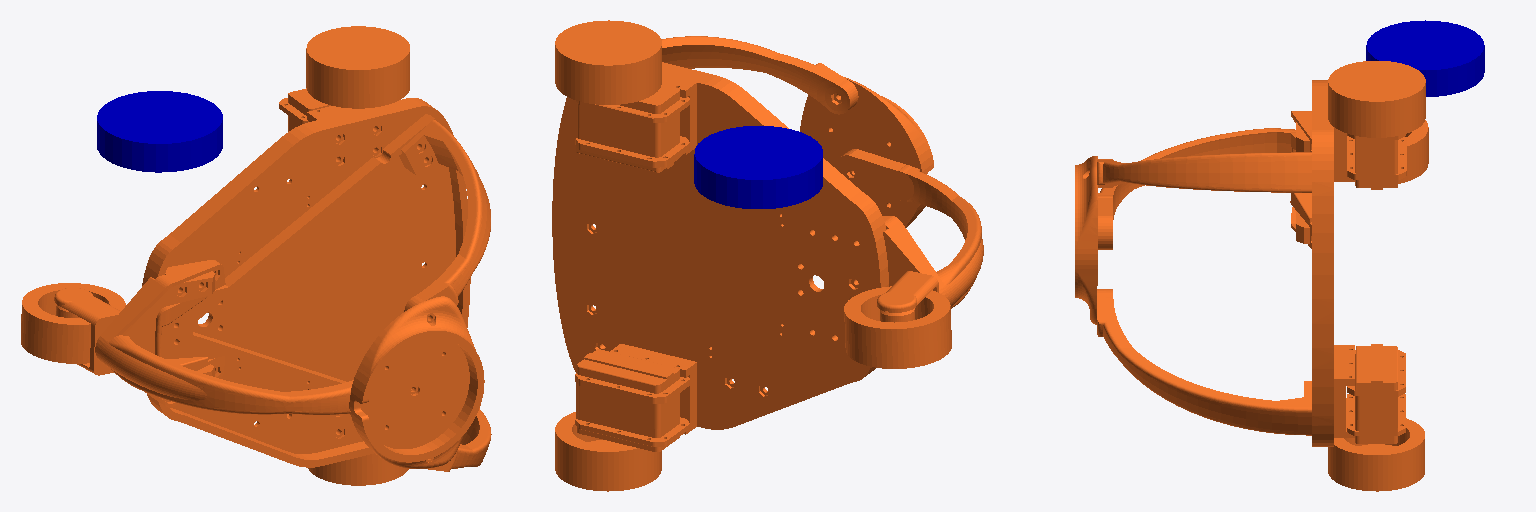
The robot description file, URDF, robot "cartographer_backpack_2d":
<?xml version="1.0"?>

<robot name="cartographer_backpack_2d">
  <material name="orange">
    <color rgba="1.0 0.5 0.2 1" />
  </material>
  <material name="gray">
    <color rgba="0.2 0.2 0.2 1" />
  </material>
<material name="blue">
 <color rgba="0 0 0.8 1"/>
</material>

  <link name="laser">
    <visual>
      <origin xyz="0 0 0" />
      <geometry>
        <cylinder length="0.02" radius="0.04" />
      </geometry>
      <material name="blue" />
    </visual>
  </link>


<!--<link name="odom">
    <visual>
      <origin xyz="0 0 0" />
      <geometry>
        <cylinder length="0.02" radius="0.04" />
      </geometry>
      <material name="blue" />
    </visual>
  </link>-->

 <!-- <link name="left_wheel">
    <visual>
      <origin rpy="1.57 0 0" xyz="0 0 0" />
      <geometry>
        <cylinder length="0.027" radius="0.033" />
      </geometry>
      <material name="gray" />
    </visual>
  </link>

  <link name="right_wheel">
    <visual>
      <origin rpy="1.57 0 0" xyz="0 0 0" />
      <geometry>
        <cylinder length="0.027" radius="0.033" />
      </geometry>
      <material name="gray" />
    </visual>
  </link>

  <link name="rear_wheel">
    <visual>
      <origin rpy="1.57 0 0" xyz="0 0 0" />
      <geometry>
        <cylinder length="0.027" radius="0.033" />
      </geometry>
      <material name="gray" />
    </visual>
  </link>

<link name="hub_link">
     <visual>
      <origin rpy="0 0 1.57" xyz="0 0 0"/>
     <geometry>
         <mesh filename="package://urdf_tutorial/meshes/robot_p1_hub.stl"/>
     </geometry>
	<material name="orange" />
     </visual>
</link>-->

<link name="base_link">
     <visual>
      <origin rpy="1.57 0 0" xyz="0 0 0"/>
     <geometry>
         <mesh filename="package://urdf_tutorial/meshes/robot_p1.stl"/>
	</geometry>
	<material name="orange" />
     </visual>
</link>
<!--
  <joint name="left_wheel_joint" type="continuous">
    <axis rpy="0 0 0" xyz="0 1 0"/>
    <parent link="base_link" />
    <child link="left_wheel" />
    <origin xyz="0.0605 0.1335 -0.04458" />
  </joint>

 <joint name="right_wheel_joint" type="continuous">
    <axis rpy="0 0 0" xyz="0 1 0"/>
    <parent link="base_link" />
    <child link="right_wheel" />
    <origin xyz="0.0605 -0.1335 -0.04458" />
  </joint>-->

  <joint name="laser_joint" type="fixed">
    <parent link="base_link" />
    <child link="laser" />
    <origin xyz="-0.056 0 0.103" rpy="0.0 0.0 0.0"/>
  </joint>

<!--<joint name="odom_joint" type="fixed">
    <parent link="odom" />
    <child link="base_link" />
    <origin xyz="0 0 0" rpy="-1.57 0 0" />
  </joint>-->
<!--
  <joint name="hub_joint" type="fixed">
    <parent link="base_link" />
    <child link="hub_link" />
    <origin xyz="-0.13 0 -0.049" />
  </joint>

 <joint name="rear_wheel_joint" type="continuous">
    <axis rpy="0 0 0" xyz="0 1 0"/>
    <parent link="hub_link" />
    <child link="rear_wheel" />
    <origin xyz="-0.0175 0 0.003" />
  </joint>-->
</robot>

--- What the picture shows (computed from the rendered views, not written in the file) ---
The picture shows the robot from 3 angles, left to right: view 1: azimuth 30°, elevation 25°; view 2: azimuth 150°, elevation 25°; view 3: azimuth 270°, elevation 25°; orthographic projection.
Model cartographer_backpack_2d with 2 links and 1 joints (1 fixed), rooted at base_link, posed all joints at 0.
Visible links, largest first — view 1: base_link, laser; view 2: base_link, laser; view 3: base_link, laser.
Boxes of the visible links, x1,y1,x2,y2 form: base_link: (21, 26, 491, 485); laser: (97, 91, 222, 172); base_link: (552, 20, 983, 491); laser: (694, 126, 822, 208); base_link: (1075, 61, 1428, 491); laser: (1366, 20, 1484, 96).
Bounding box of the posed robot: 0.2985 × 0.2771 × 0.291 m (x, y, z).
1 mesh visuals loaded from 1 distinct referenced files (1 binary STL).